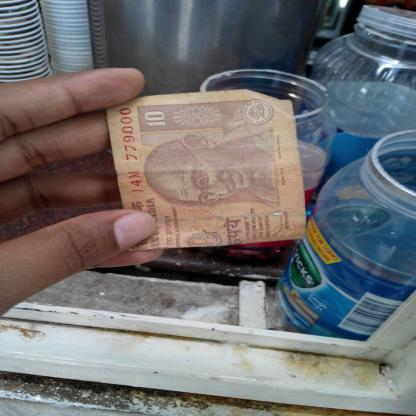Old10Front: (104, 88, 308, 253)
